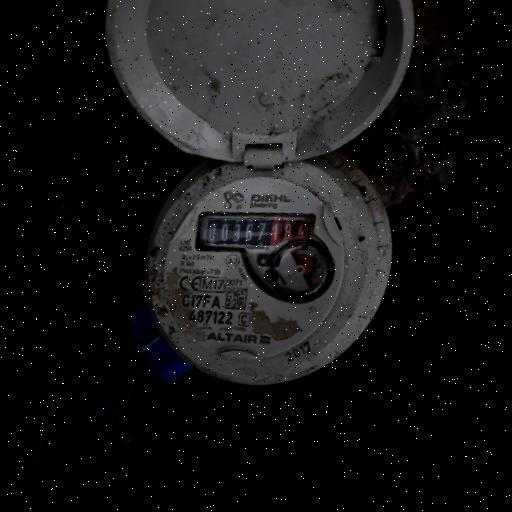0: (202, 217, 222, 245), (214, 218, 234, 246)
1: (264, 218, 285, 246)
3: (227, 217, 248, 245)
4: (293, 217, 309, 238)
6: (239, 217, 260, 245)
7: (251, 217, 272, 245)
8: (278, 216, 299, 243)
border_water_meter_number: (190, 192, 321, 270)
